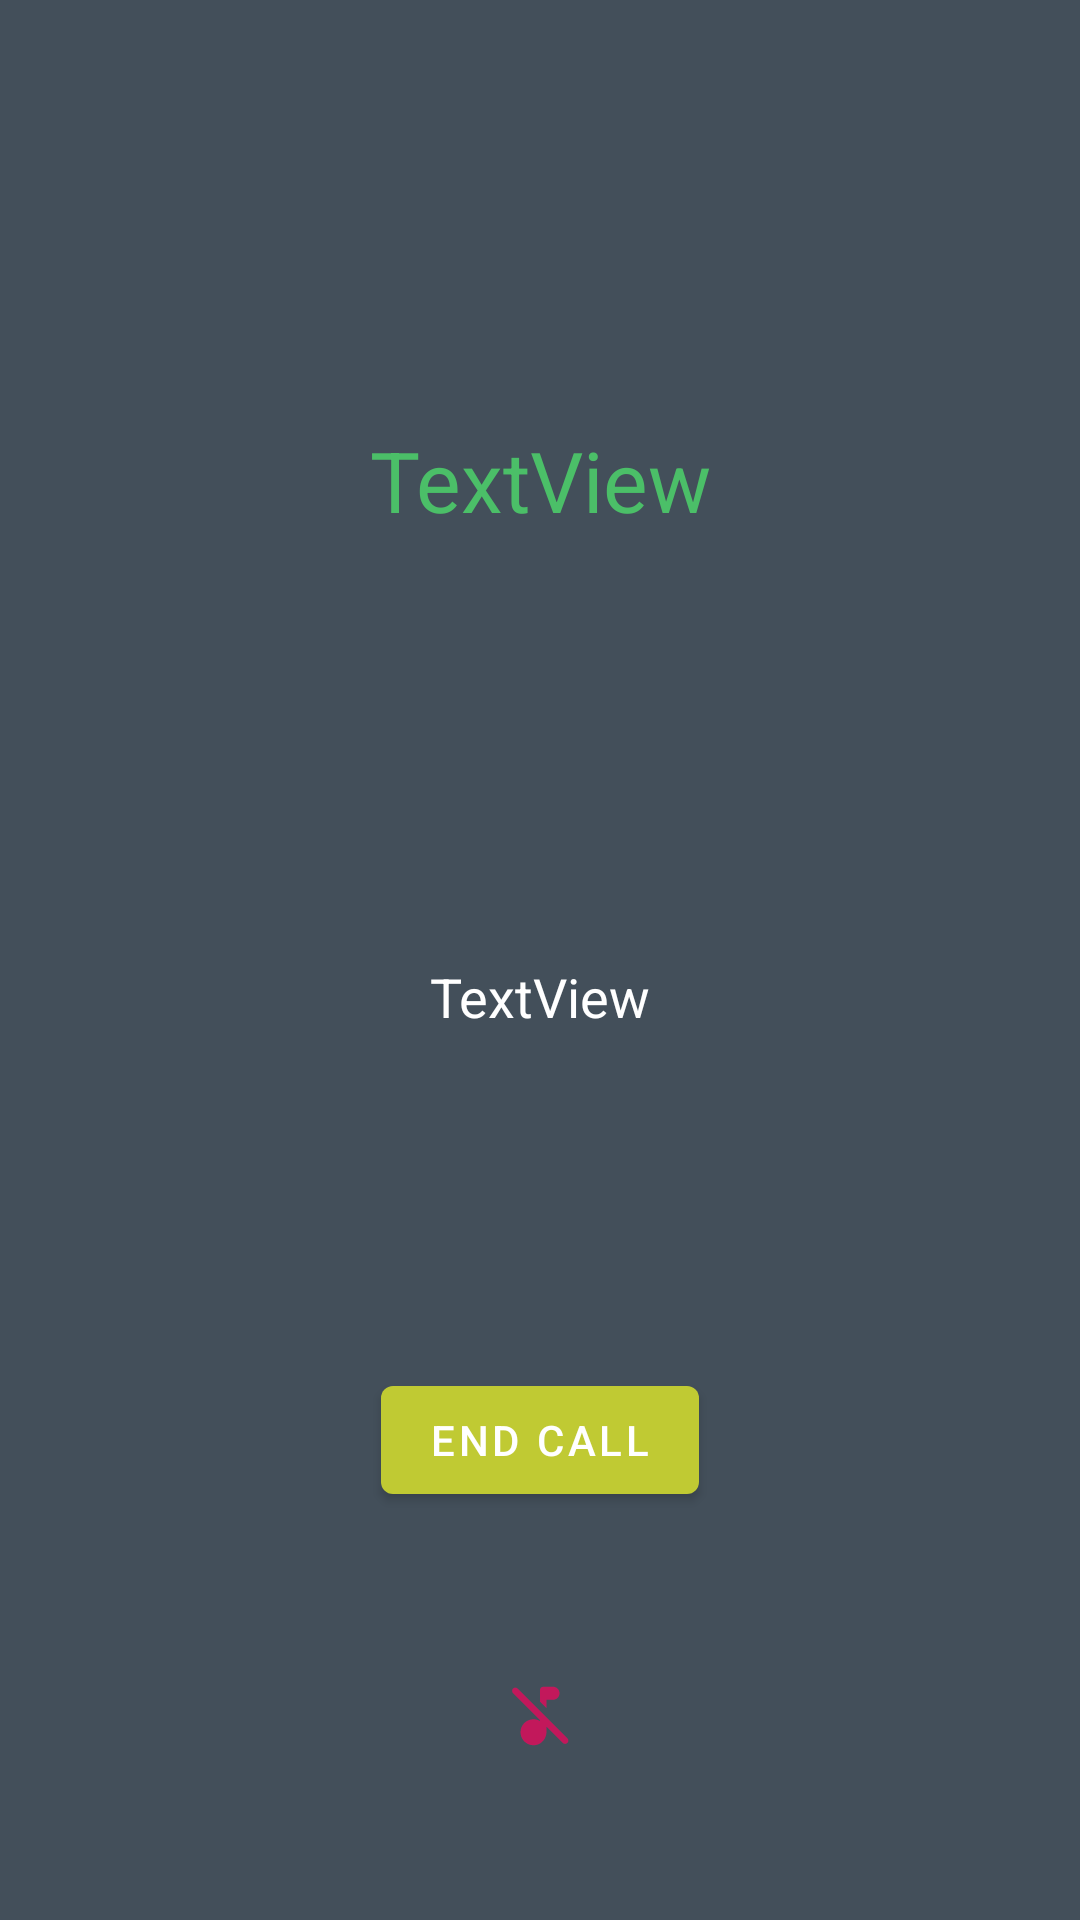

Screen size 1080 x 1920. Icon name, then its box in pixels as box=[x1, y1, x2, y2]:
music off: box=[512, 1686, 569, 1746]
